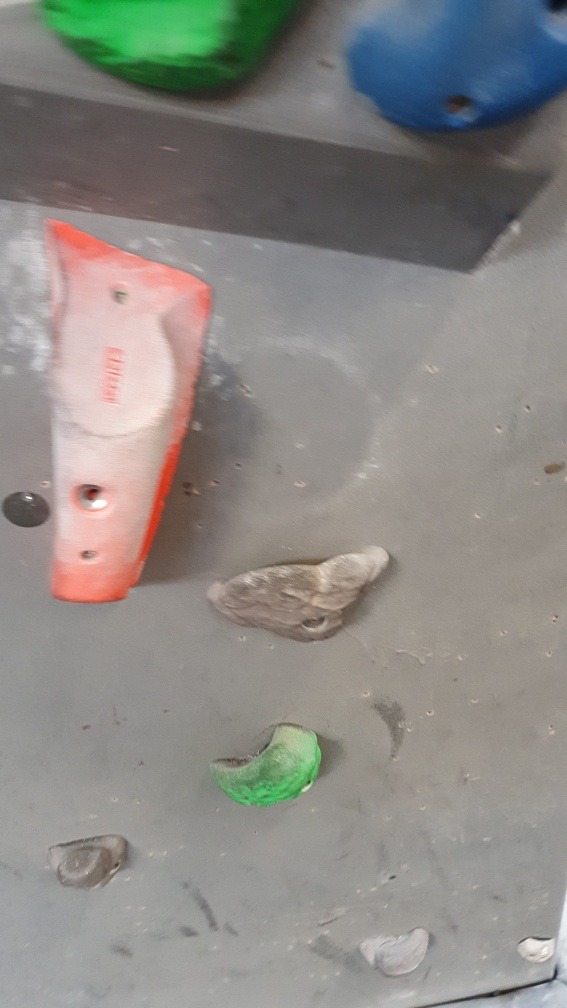Hand Start: (3, 489, 54, 532)
Jug: (205, 544, 393, 645), (205, 721, 329, 807)
Pinch: (44, 216, 211, 606)
Sloper: (342, 1, 567, 140)
